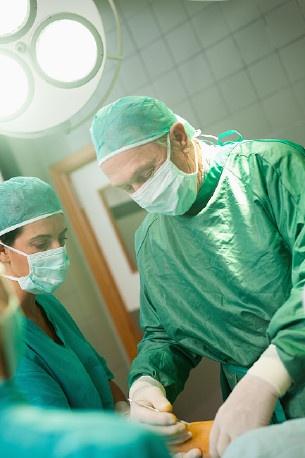Mask: (3, 226, 75, 297)
